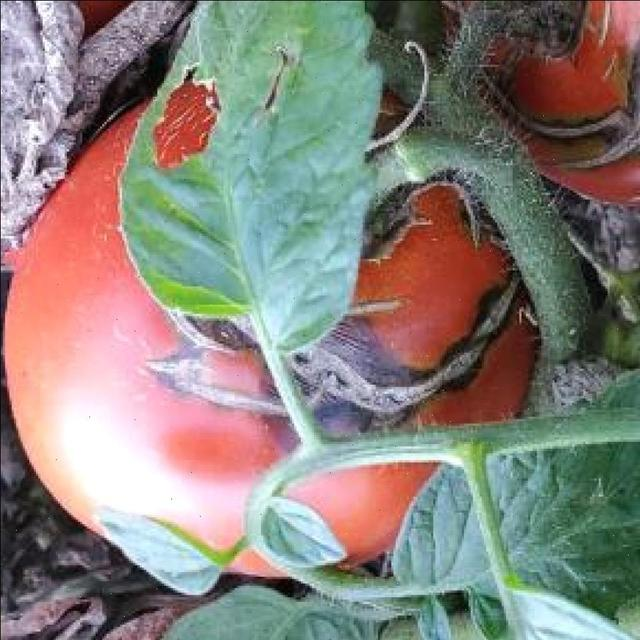Cracking Fruit: (96, 76, 379, 258)
